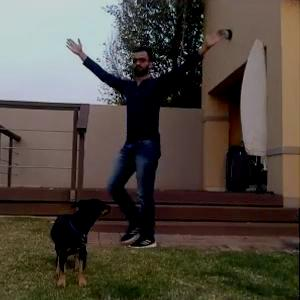takeoff: (57, 26, 228, 258)
